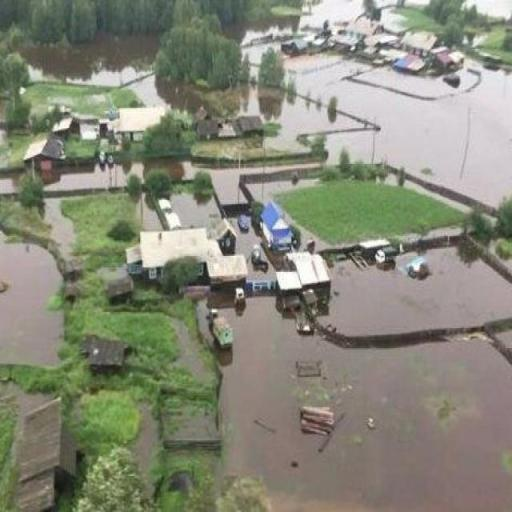flood: (22, 36, 512, 207), (220, 297, 512, 512), (321, 247, 512, 336), (241, 0, 362, 75), (0, 237, 62, 364), (47, 160, 201, 192), (208, 160, 314, 204), (172, 194, 221, 227), (46, 199, 74, 256), (407, 181, 465, 207), (248, 179, 318, 200), (249, 254, 287, 280), (136, 199, 162, 231), (238, 230, 262, 256), (478, 0, 512, 15), (303, 229, 327, 248)
house: (19, 398, 81, 512), (275, 248, 332, 304), (140, 228, 212, 272), (208, 250, 250, 285), (262, 200, 292, 249), (24, 140, 66, 166), (112, 108, 145, 141), (216, 218, 238, 252), (236, 115, 264, 137), (404, 38, 434, 57), (197, 118, 220, 140), (282, 38, 306, 56)
